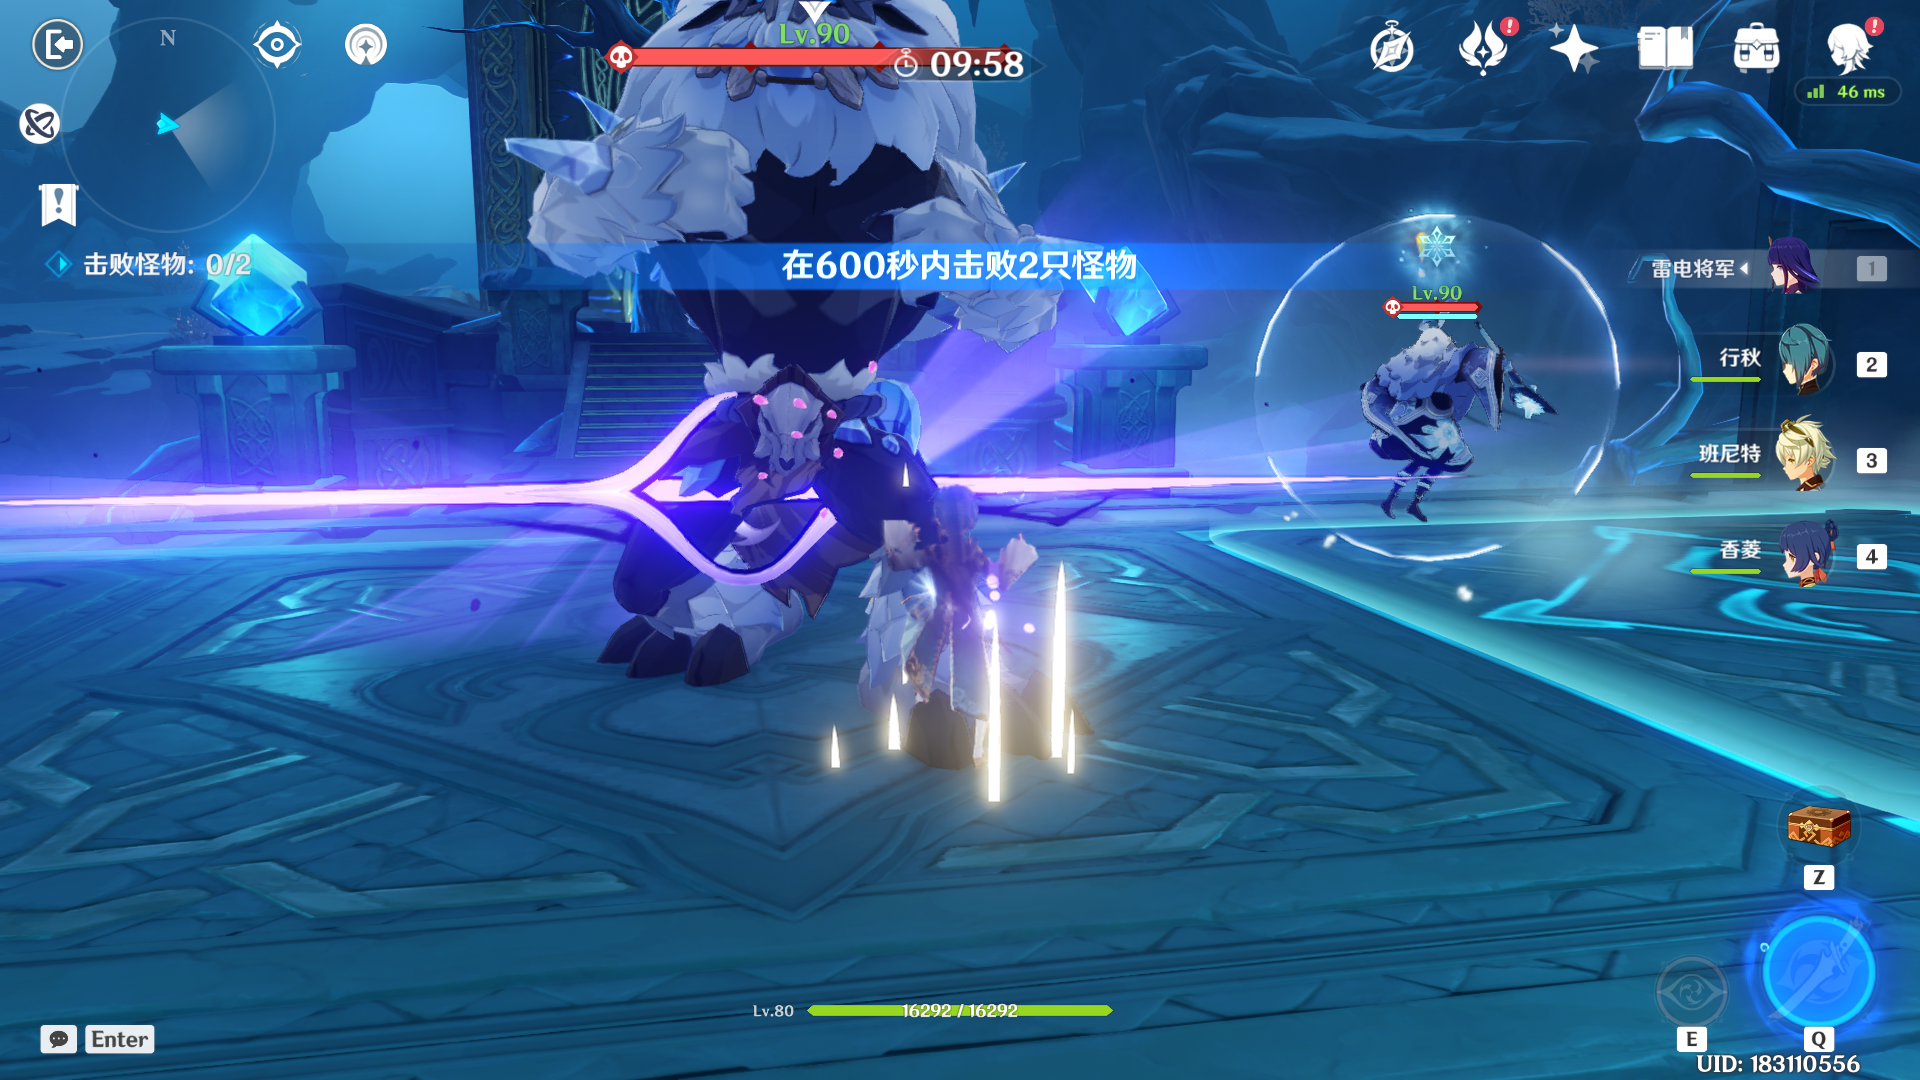bosshili: (484, 1, 1130, 719)
caster: (1291, 278, 1592, 599)
character: (873, 471, 1043, 800)
